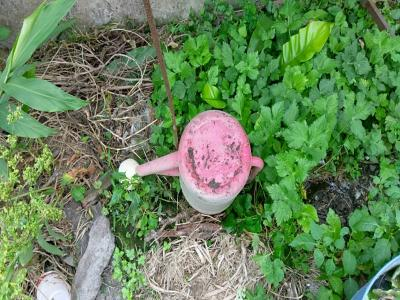bowl: (172, 108, 255, 216)
